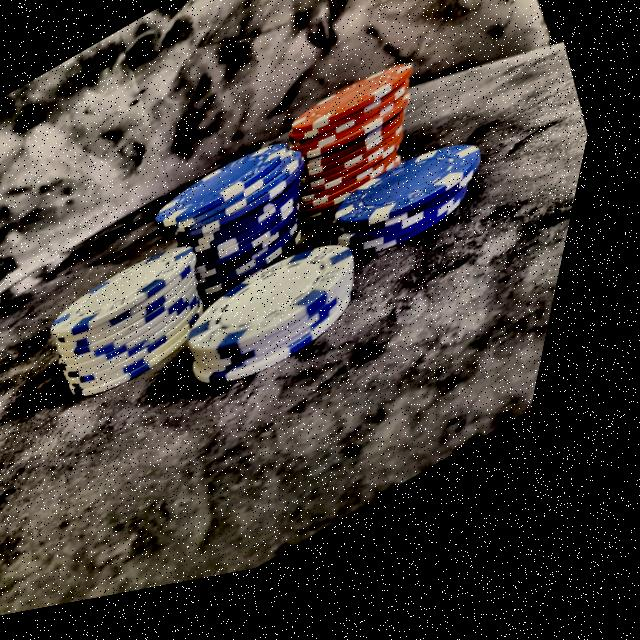Chip: (171, 210, 412, 436), (136, 118, 361, 346), (36, 217, 255, 434), (309, 113, 533, 314), (274, 58, 457, 238)
